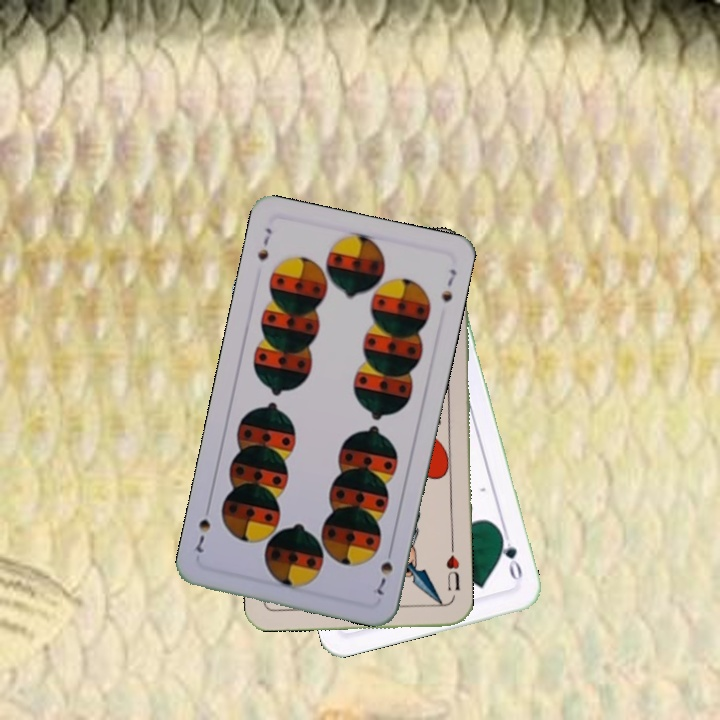GO: (496, 527, 525, 586)
HU: (442, 551, 462, 593)
S7: (371, 543, 396, 599), (253, 223, 274, 263)
